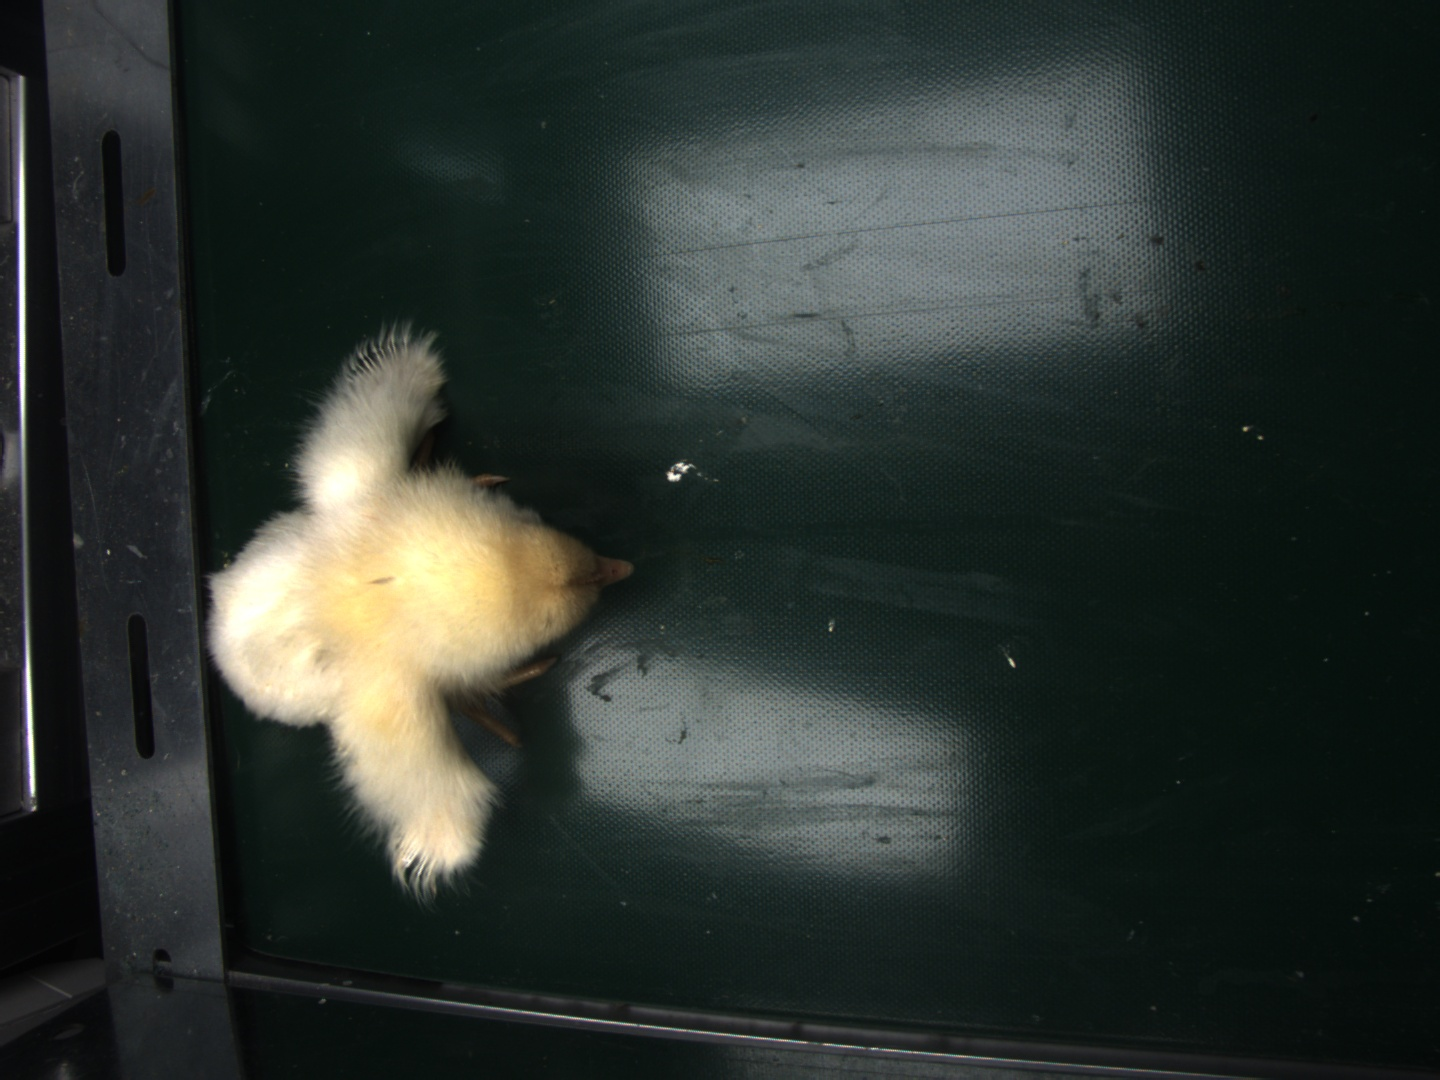male: (349, 335, 414, 370)
